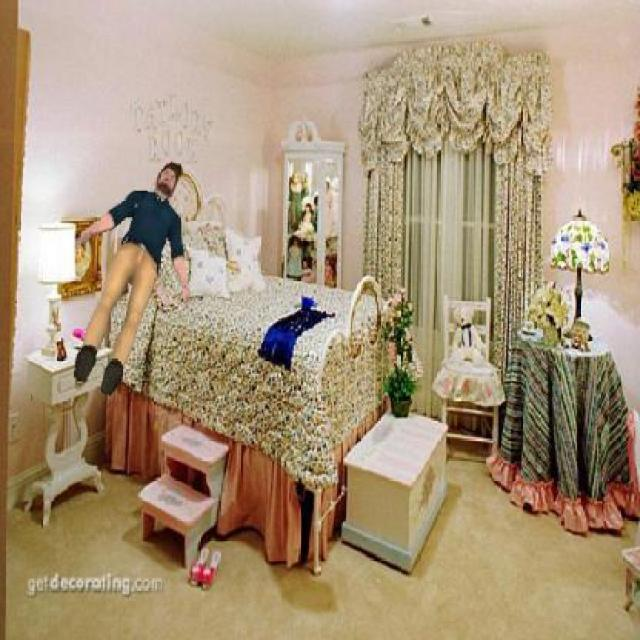Person: (70, 154, 198, 400)
